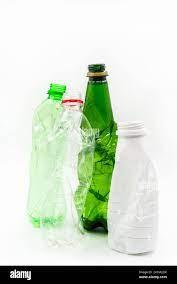plastic: (105, 125, 158, 255)
